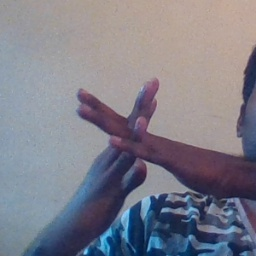W: (66, 68, 195, 200)
